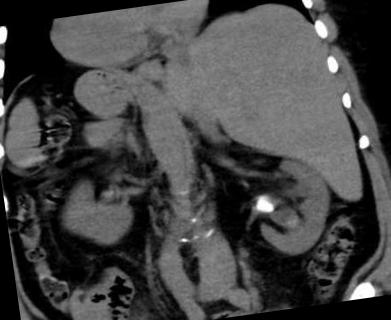Tas_Var: (252, 194, 277, 217)
